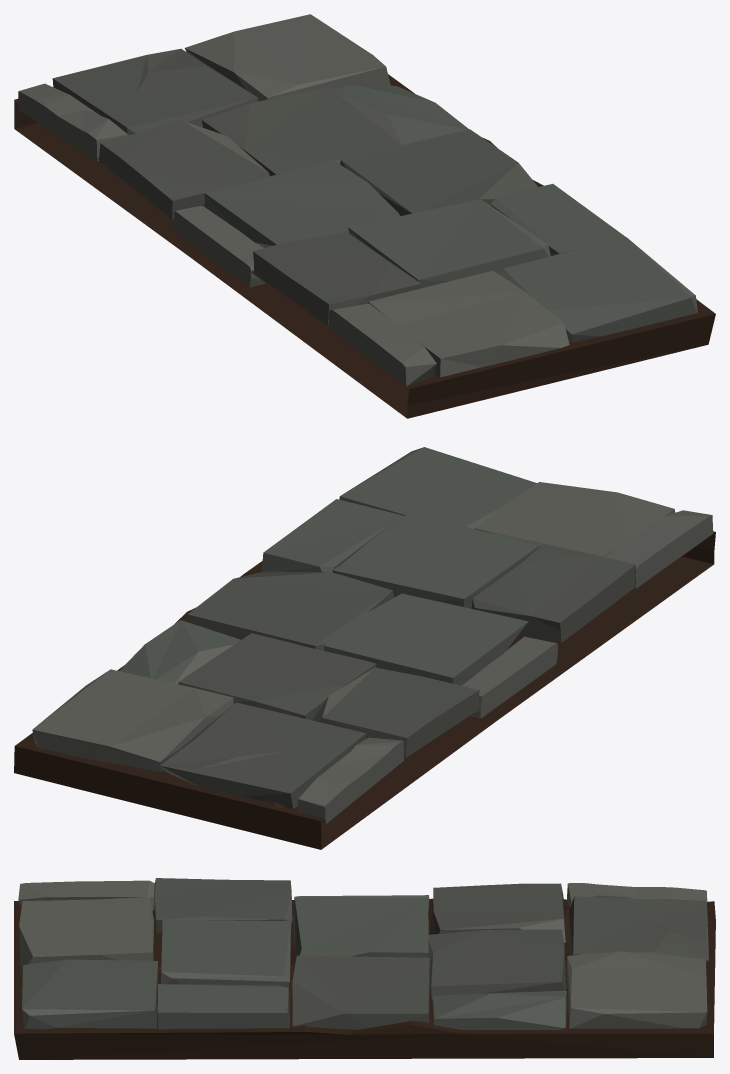
File: MCastle_TileSlabs_03.FBX
3 views of the same model, one above another, from view 1: azimuth 30°, elevation 25°; view 2: azimuth 150°, elevation 25°; view 3: azimuth 270°, elevation 25° (orthographic). The views are drawn at different scales.
Parts seen in each view (by area): view 1: MCastle_TileSlabs_03_LOD0; view 2: MCastle_TileSlabs_03_LOD0; view 3: MCastle_TileSlabs_03_LOD0.
Boxes of the visible parts, bbox=[...] form: MCastle_TileSlabs_03_LOD0: bbox=[14, 14, 715, 418]; MCastle_TileSlabs_03_LOD0: bbox=[14, 447, 715, 849]; MCastle_TileSlabs_03_LOD0: bbox=[14, 878, 715, 1059].
Size of what is drawn, in the model's own units: 1.99 by 0.358 by 4.43.
